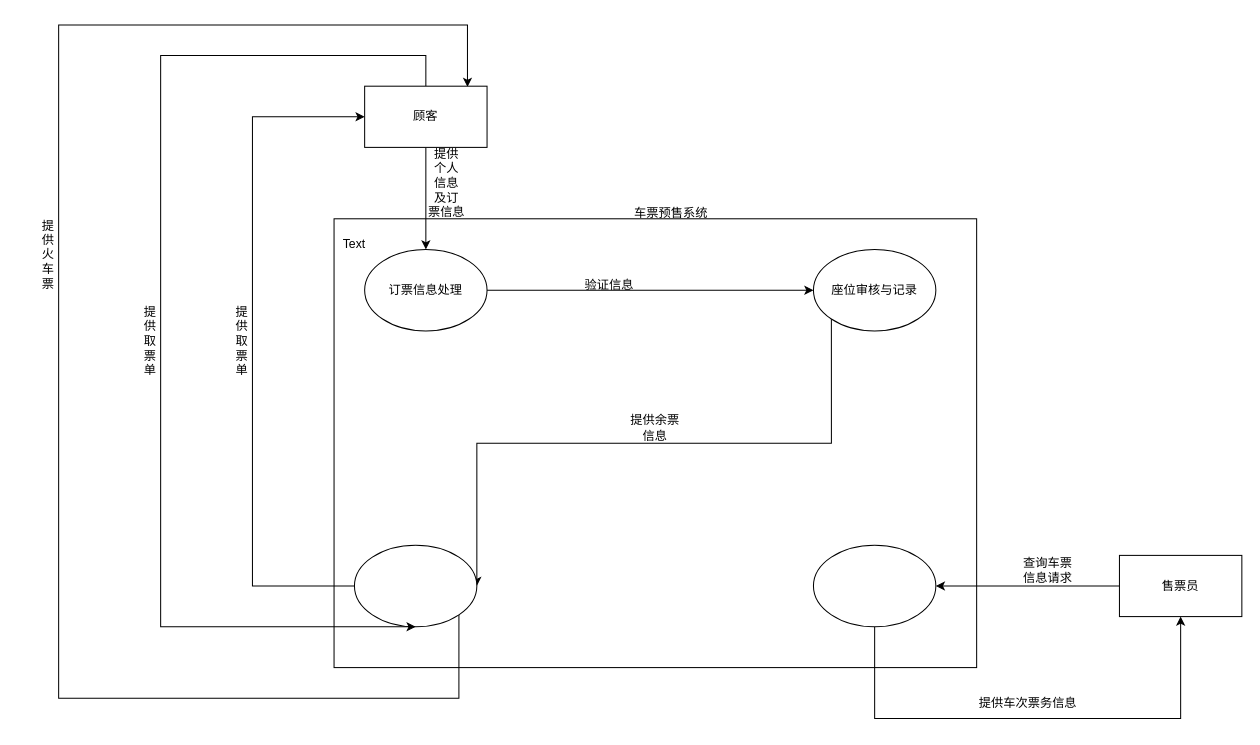
This 1260x745 diagram has some shape labels left out. Each missing label, with the centre of its shape:
票据处理: (415,585)
车票信息查询: (874,585)
